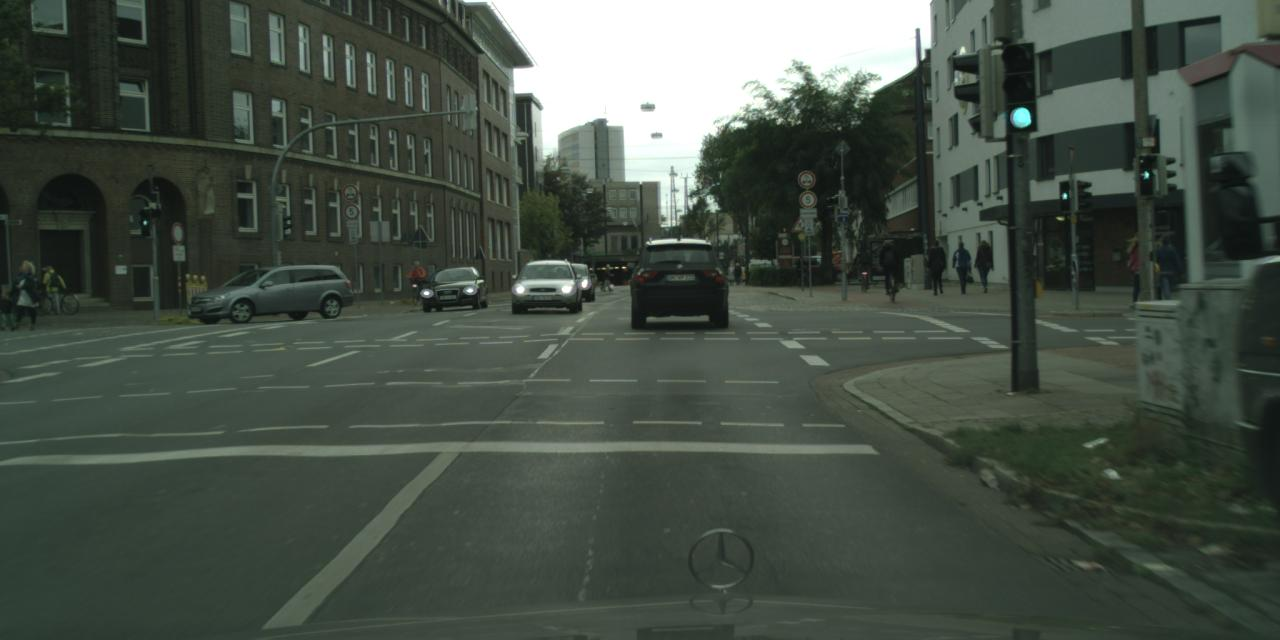ped: (3, 259, 42, 332), (1156, 232, 1186, 300), (926, 240, 948, 294), (879, 239, 900, 293), (974, 240, 994, 291), (951, 242, 971, 292), (42, 265, 62, 314), (1128, 232, 1140, 309), (855, 247, 870, 284), (410, 261, 424, 295), (727, 262, 742, 286), (602, 264, 612, 292)
